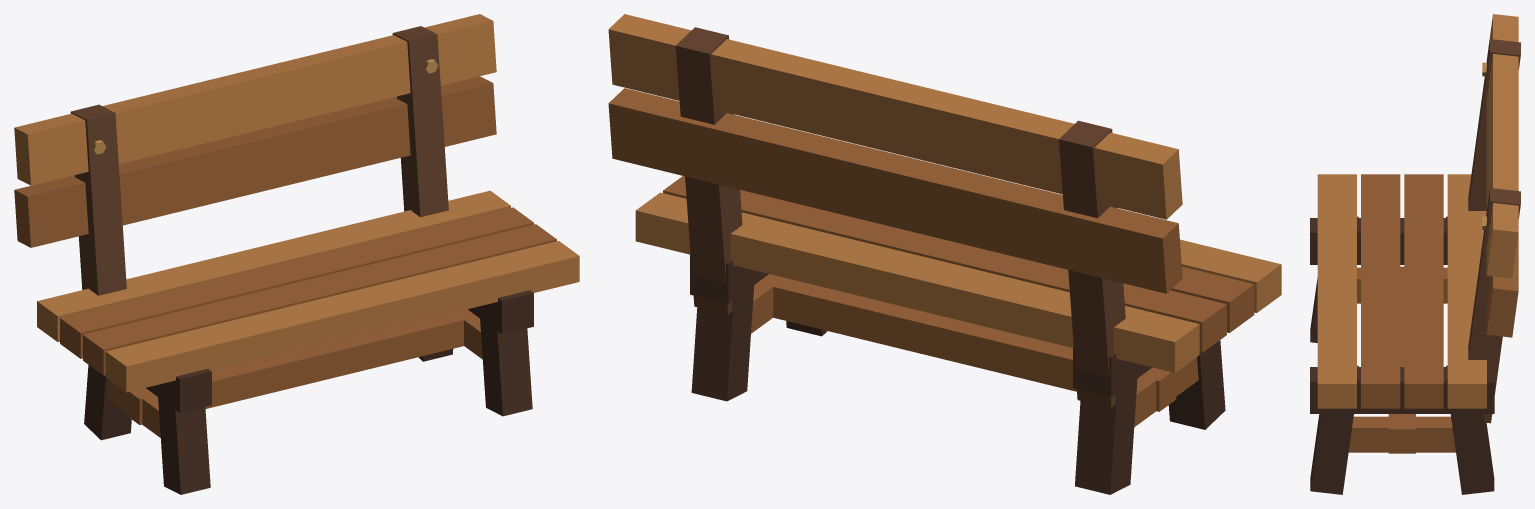
Rendered from 15_village_bench.fbx.
The picture shows the model from 3 angles, left to right: view 1: azimuth 30°, elevation 25°; view 2: azimuth 150°, elevation 25°; view 3: azimuth 270°, elevation 25°; orthographic projection. The views are drawn at different scales.
Parts seen in each view (by area): view 1: 15_village_bench; view 2: 15_village_bench; view 3: 15_village_bench.
Boxes of the visible parts, left/top/right/bottom form: 15_village_bench: left=14, top=14, right=579, bottom=494; 15_village_bench: left=608, top=14, right=1281, bottom=494; 15_village_bench: left=1310, top=14, right=1520, bottom=494.
Bounding box in the file's own units: 1.88 × 1.19 × 0.7771.
1 material, 1 textured.
